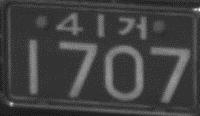0: (104, 44, 144, 101)
1: (19, 38, 48, 96), (89, 13, 113, 38)
4: (55, 11, 83, 36)
7: (149, 44, 191, 104), (58, 39, 98, 99)
거: (118, 14, 147, 39)
